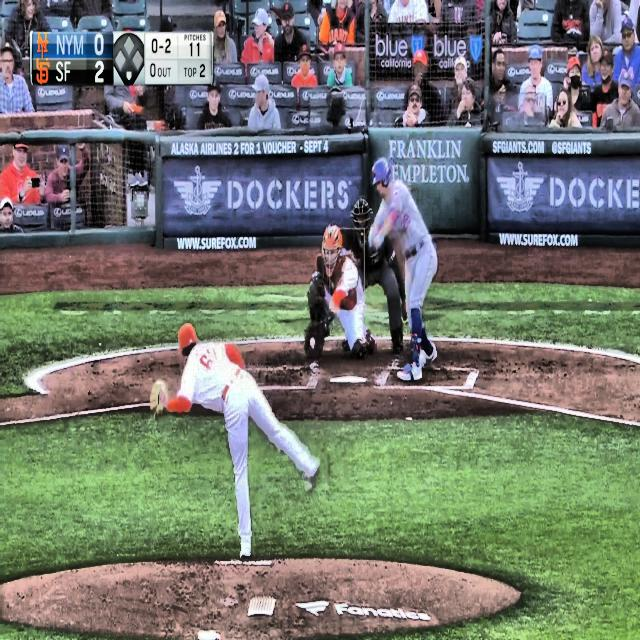baseball: (310, 336, 316, 351)
